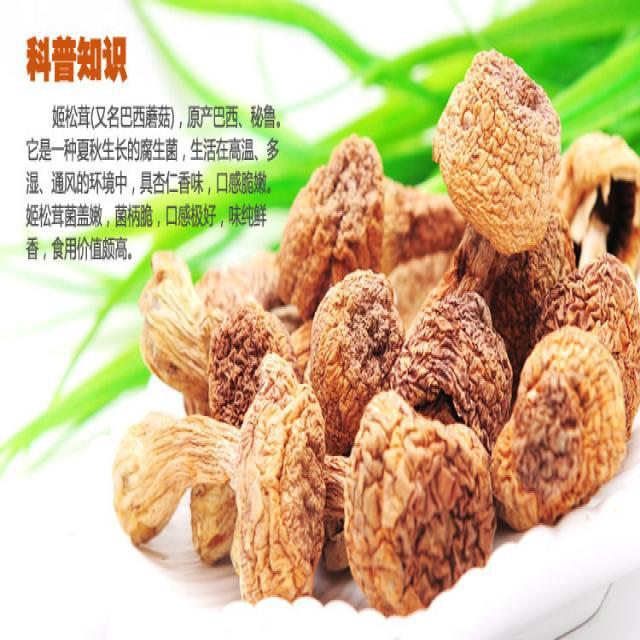Agaricus blazei Murill: (115, 383, 320, 602), (309, 389, 494, 616), (437, 47, 558, 314), (136, 255, 300, 434), (514, 335, 629, 521)
